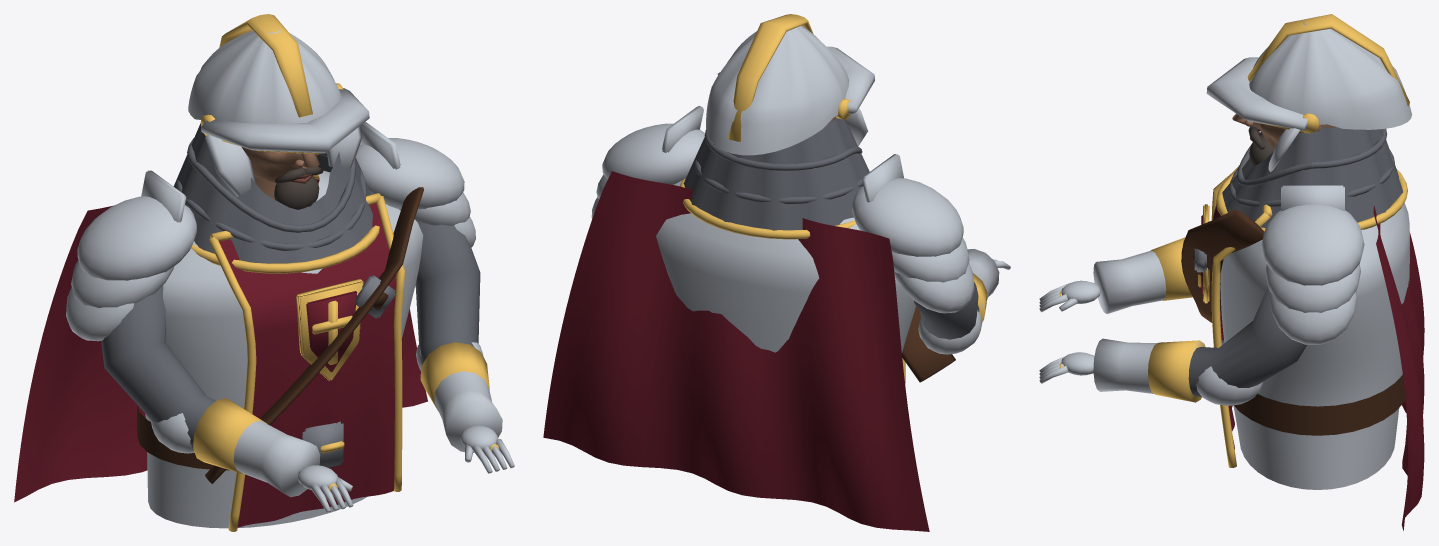
Rendered from opp_stredovek.glb.
The picture shows the model from 3 angles, left to right: view 1: azimuth 30°, elevation 25°; view 2: azimuth 150°, elevation 25°; view 3: azimuth 270°, elevation 25°; orthographic projection. The views are drawn at different scales.
Visible parts, largest first — view 1: HeraldicSurcoatFront, KnightBackMantle, GothicSteelCuirass, AventailChainmailCoif, FlutedSalletDome, ChainmailSleeve_L, GothicPauldronLame_L_0, ChainmailSleeve_R, GothicPauldronLame_R_0, SalletRaisedVisorPlate, SteelGauntletCuff_L, LeatherSwordBaldric (+26 smaller); view 2: KnightBackMantle, GothicSteelCuirass, AventailChainmailCoif, FlutedSalletDome, GothicPauldronLame_L_0, GothicPauldronLame_R_0, SalletCentralComb, GothicPauldronLame_L_2, GothicPauldronLame_L_1, LeatherSwordBaldric, ChainmailSleeve_L, AventailMailTier_2 (+7 smaller); view 3: GothicSteelCuirass, FlutedSalletDome, AventailChainmailCoif, GothicPauldronLame_R_0, KnightBackMantle, ChainmailSleeve_R, KnightWaistBelt, LeatherSwordBaldric, SteelGauntletCuff_L, SalletRaisedVisorPlate, SteelGauntletCuff_R, GothicPauldronLame_R_2 (+13 smaller).
Part boxes in pixels (x1=…): HeraldicSurcoatFront: x1=219, y1=203, x2=396, y2=527; KnightBackMantle: x1=14, y1=179, x2=427, y2=502; GothicSteelCuirass: x1=145, y1=170, x2=423, y2=528; AventailChainmailCoif: x1=173, y1=123, x2=372, y2=263; FlutedSalletDome: x1=188, y1=29, x2=341, y2=123; ChainmailSleeve_L: x1=101, y1=285, x2=215, y2=450; GothicPauldronLame_L_0: x1=77, y1=196, x2=196, y2=280; ChainmailSleeve_R: x1=415, y1=222, x2=480, y2=364; GothicPauldronLame_R_0: x1=355, y1=138, x2=464, y2=209; SalletRaisedVisorPlate: x1=201, y1=88, x2=369, y2=153; SteelGauntletCuff_L: x1=233, y1=420, x2=320, y2=497; LeatherSwordBaldric: x1=205, y1=187, x2=423, y2=483; KnightBackMantle: x1=543, y1=171, x2=929, y2=531; GothicSteelCuirass: x1=656, y1=180, x2=915, y2=352; AventailChainmailCoif: x1=683, y1=117, x2=869, y2=230; FlutedSalletDome: x1=706, y1=20, x2=849, y2=155; GothicPauldronLame_L_0: x1=852, y1=178, x2=963, y2=256; GothicPauldronLame_R_0: x1=602, y1=123, x2=704, y2=184; SalletCentralComb: x1=727, y1=14, x2=813, y2=141; GothicPauldronLame_L_2: x1=894, y1=263, x2=974, y2=313; GothicPauldronLame_L_1: x1=891, y1=237, x2=969, y2=282; LeatherSwordBaldric: x1=902, y1=306, x2=955, y2=382; ChainmailSleeve_L: x1=914, y1=282, x2=979, y2=339; AventailMailTier_2: x1=680, y1=179, x2=855, y2=239; GothicSteelCuirass: x1=1220, y1=203, x2=1409, y2=489; FlutedSalletDome: x1=1249, y1=21, x2=1412, y2=129; AventailChainmailCoif: x1=1222, y1=127, x2=1403, y2=227; GothicPauldronLame_R_0: x1=1261, y1=204, x2=1364, y2=285; KnightBackMantle: x1=1373, y1=206, x2=1424, y2=530; ChainmailSleeve_R: x1=1188, y1=286, x2=1306, y2=396; KnightWaistBelt: x1=1234, y1=375, x2=1405, y2=435; LeatherSwordBaldric: x1=1181, y1=210, x2=1264, y2=322; SteelGauntletCuff_L: x1=1093, y1=250, x2=1166, y2=313; SalletRaisedVisorPlate: x1=1206, y1=57, x2=1307, y2=130; SteelGauntletCuff_R: x1=1093, y1=338, x2=1204, y2=400; GothicPauldronLame_R_2: x1=1269, y1=291, x2=1357, y2=344.
Size of the model in its own units: 0.78 by 0.8381 by 0.6916.
